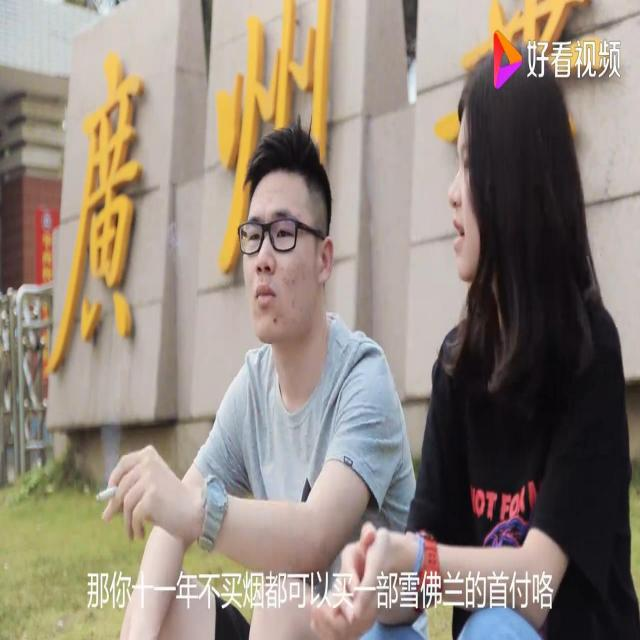smoke: (90, 468, 126, 513)
